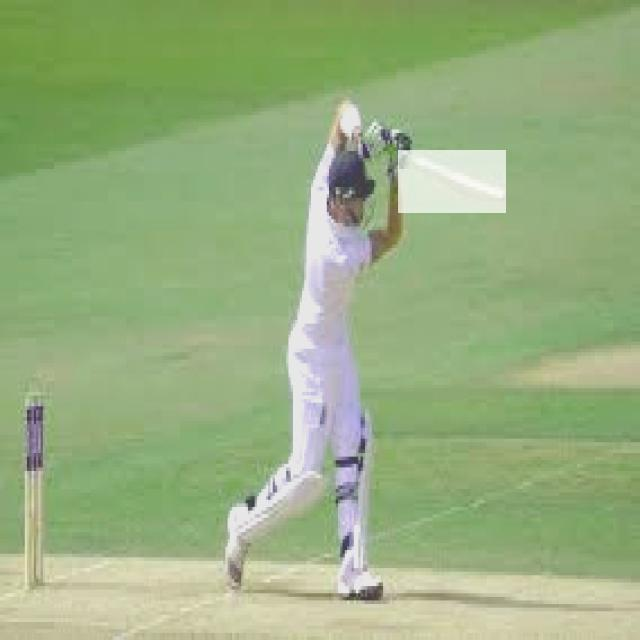bat: (401, 149, 506, 214)
toe: (495, 193, 511, 213)
